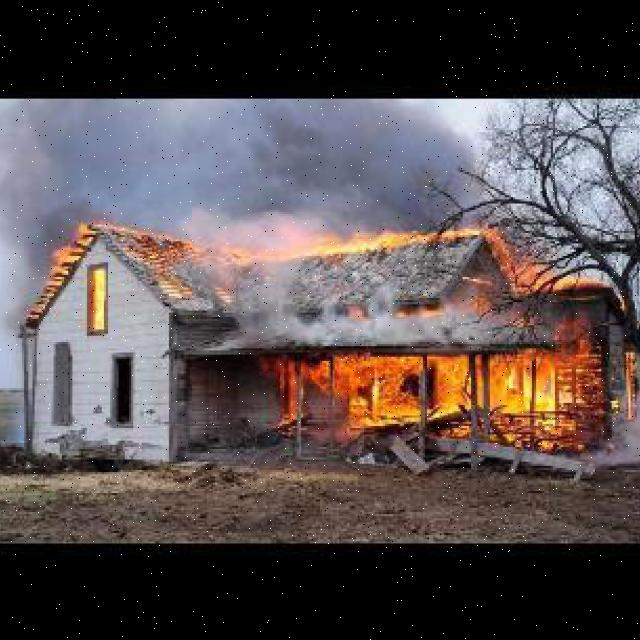fire: (266, 350, 582, 449), (232, 225, 509, 256), (41, 222, 93, 273), (87, 260, 106, 334)
smoke: (0, 96, 490, 225), (226, 271, 396, 340), (595, 342, 640, 464), (398, 311, 550, 344)
